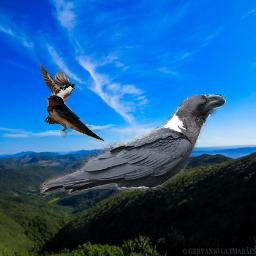Crow: (40, 94, 226, 195)
Swallow: (45, 94, 105, 142), (38, 61, 76, 124)
